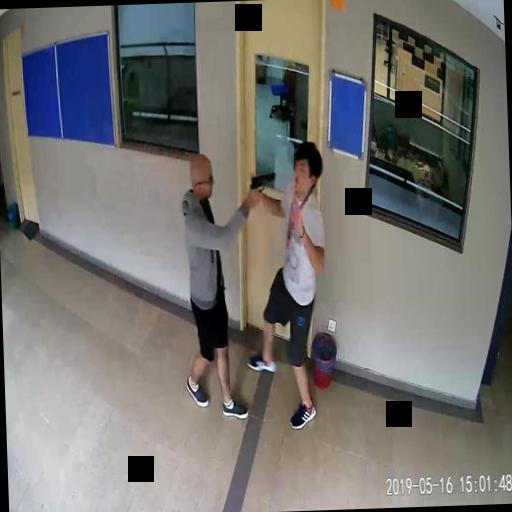Handgun: (249, 170, 273, 202)
